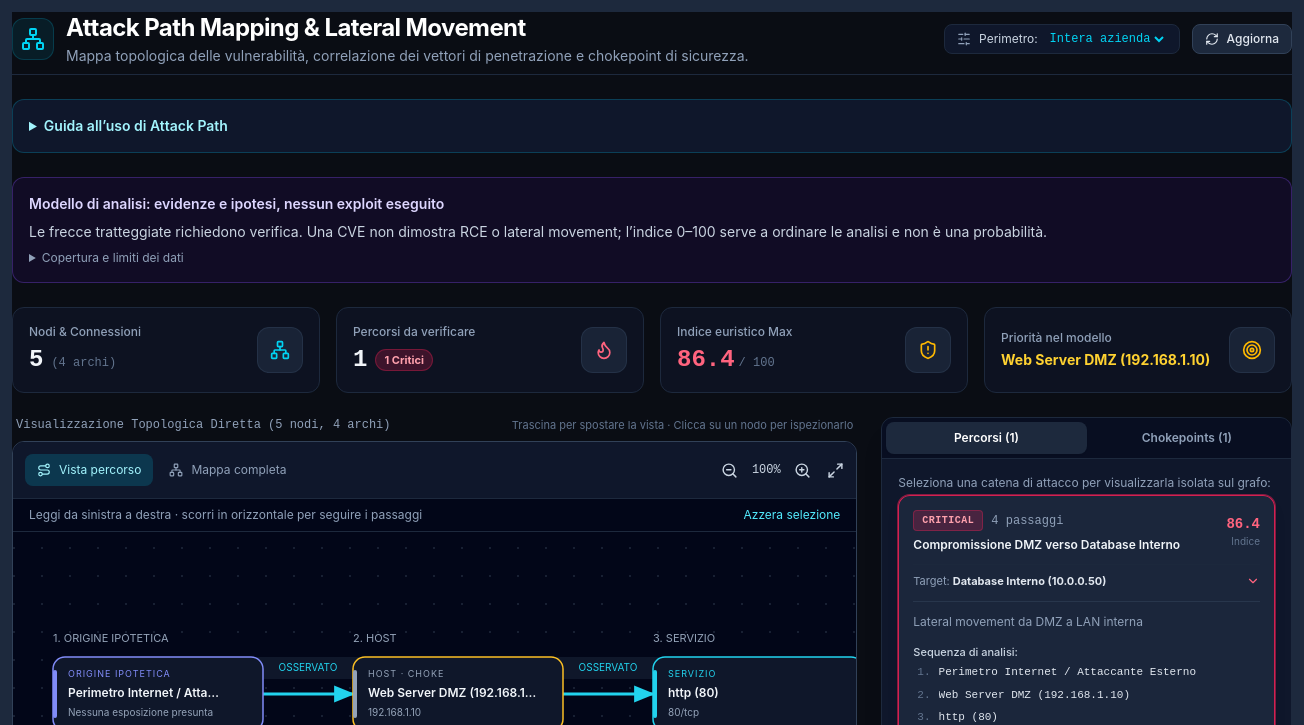
Test: AttackPath Page - Visual Graph Explorer & Chokepoints › permette la navigazione nei tab Chokepoints e la visualizzazione della remediation prescrittiva
Expected: the text "Chokepoints (1)" is shown, [1142,430,1232,446]
Note: Click sul tab Chokepoints
Click the button "Chokepoints (1)": [1187, 438] box [1087,422,1287,454]
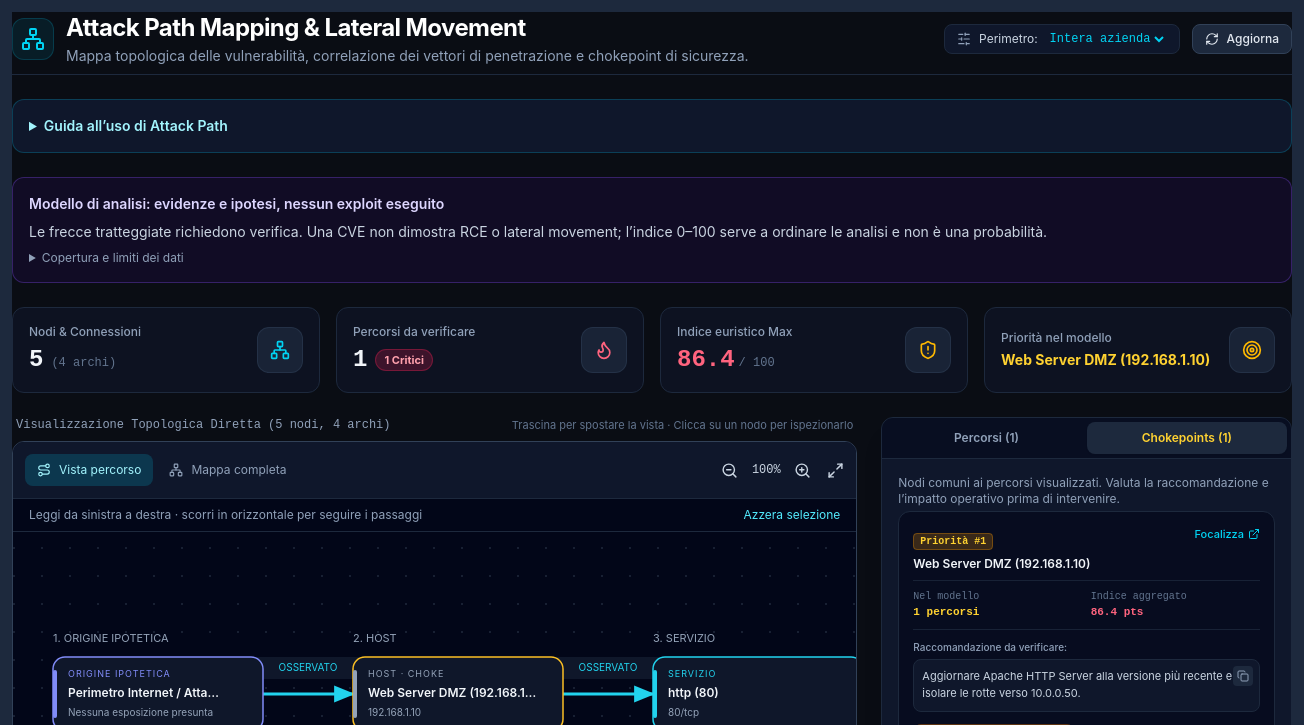
Now the text "Aggiornare Apache HTTP Server alla versione più recente" is shown, box [922,668,1232,700]
Now the text "1 percorsi" is shown, box [913,606,979,618]
Now the text "86.4 pts" is shown, box [1091,606,1144,618]
